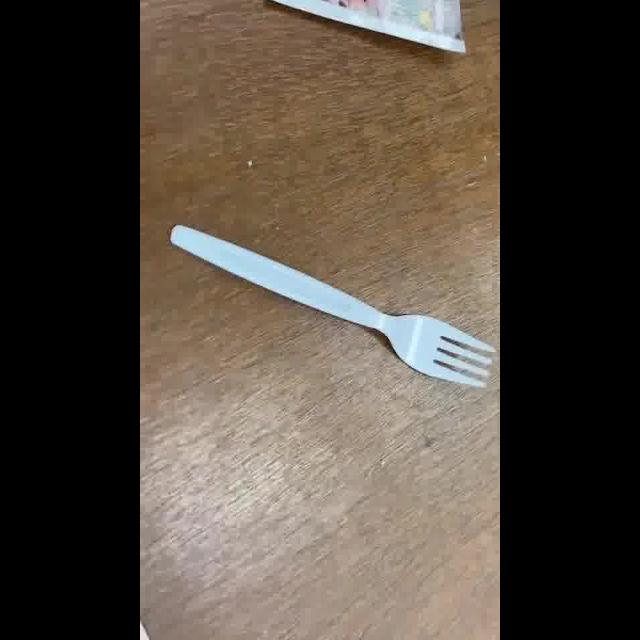plastic_cultery: (168, 220, 494, 392)
